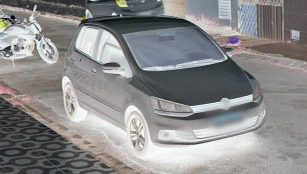car: (61, 16, 271, 159)
